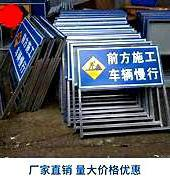sign: (75, 44, 164, 90), (7, 18, 42, 88)
